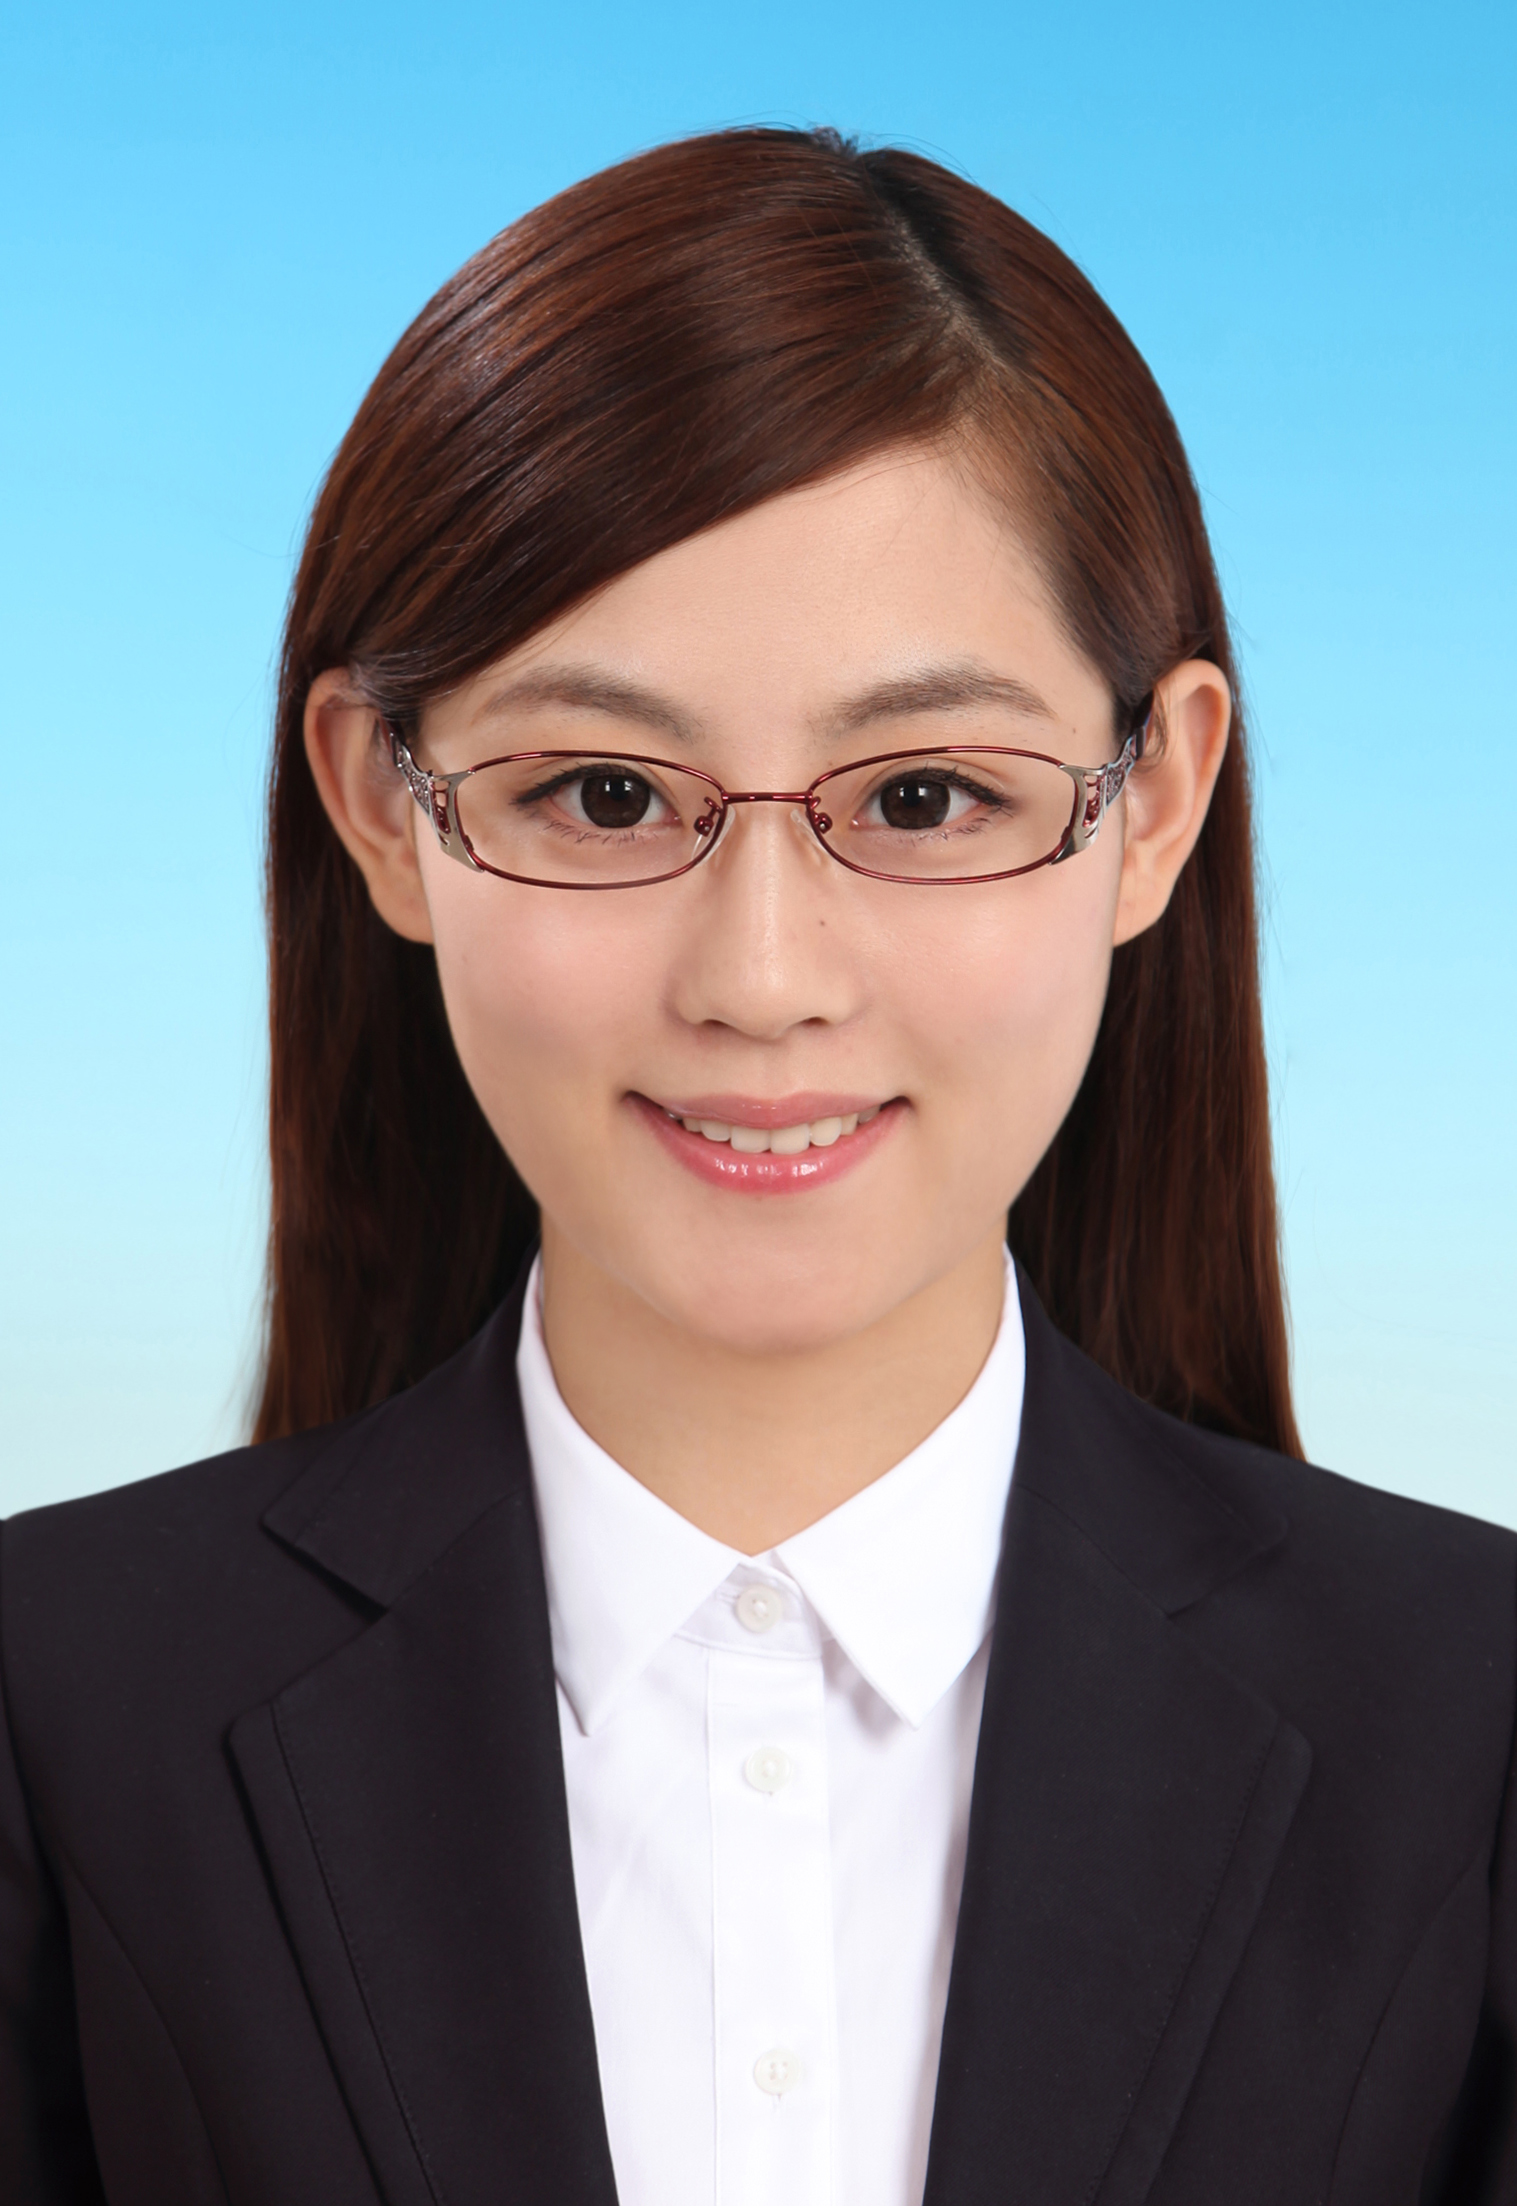unmask: (381, 448, 1123, 1342)
